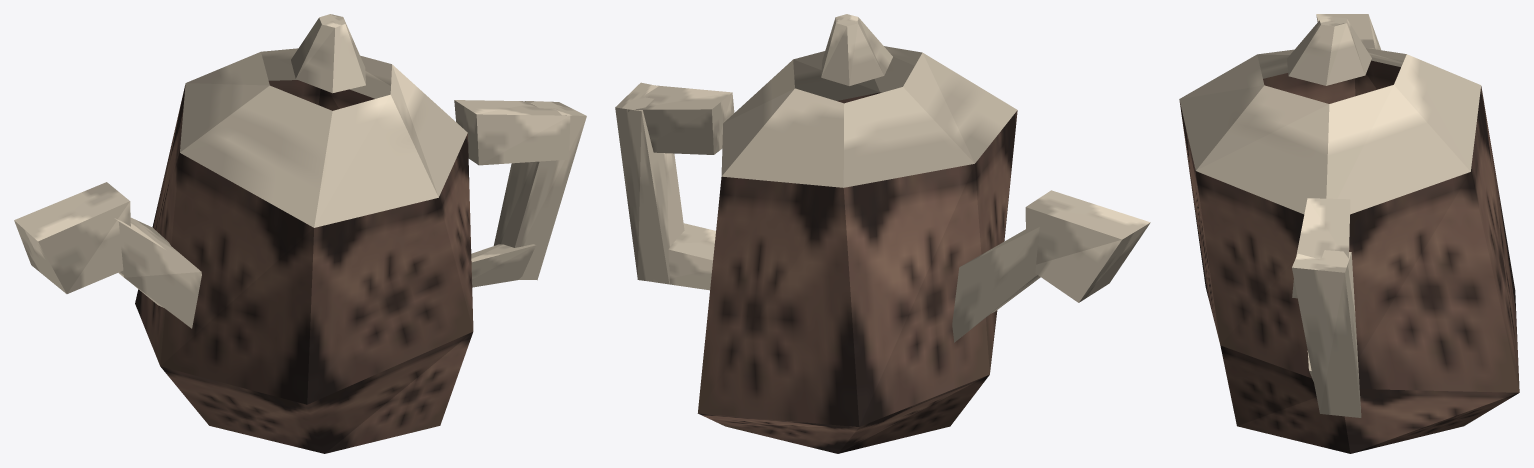
Rendered from SM_CeramicTeapot.fbx.
3 views of the same model, side by side, from view 1: azimuth 30°, elevation 25°; view 2: azimuth 150°, elevation 25°; view 3: azimuth 270°, elevation 25° (orthographic). The views are drawn at different scales.
Visible parts, largest first — view 1: CeramicTeapot_Visual; view 2: CeramicTeapot_Visual; view 3: CeramicTeapot_Visual.
Part boxes in pixels (box(x1,y1,x2,y2)): CeramicTeapot_Visual: box(14, 14, 586, 453); CeramicTeapot_Visual: box(615, 14, 1150, 453); CeramicTeapot_Visual: box(1179, 14, 1519, 453).
Size of the model in its own units: 0.3019 by 0.2065 by 0.1688.
